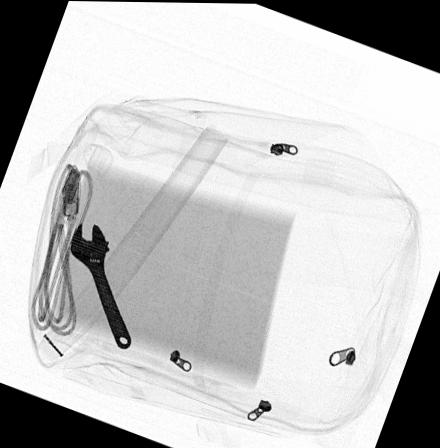Wrench: (68, 216, 132, 350)
